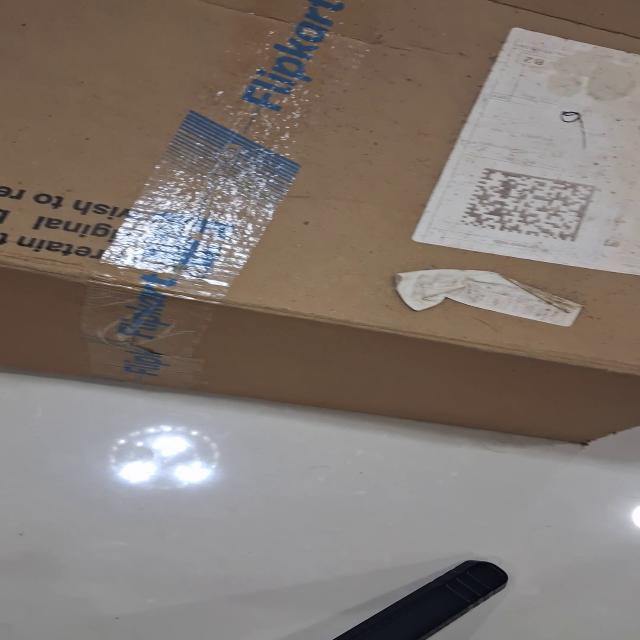paper: (409, 27, 639, 275), (393, 268, 583, 327)
